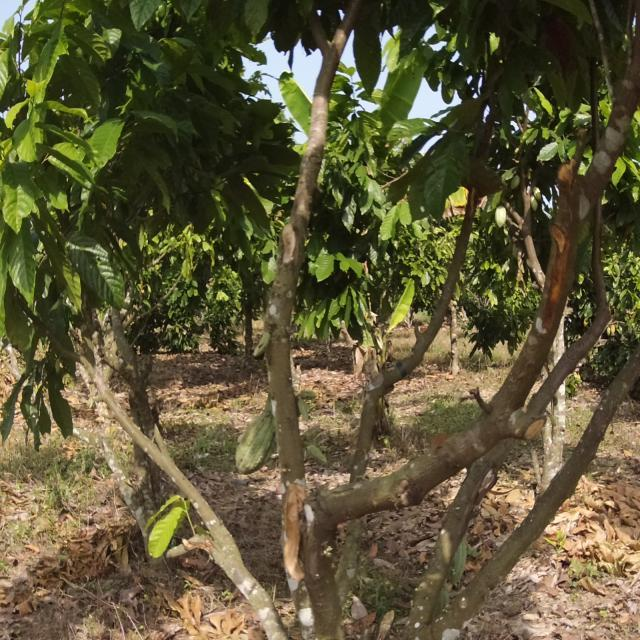Immature: (302, 438, 337, 474), (292, 387, 320, 423), (249, 332, 279, 358)
Mature_Unripe: (232, 398, 286, 480)
